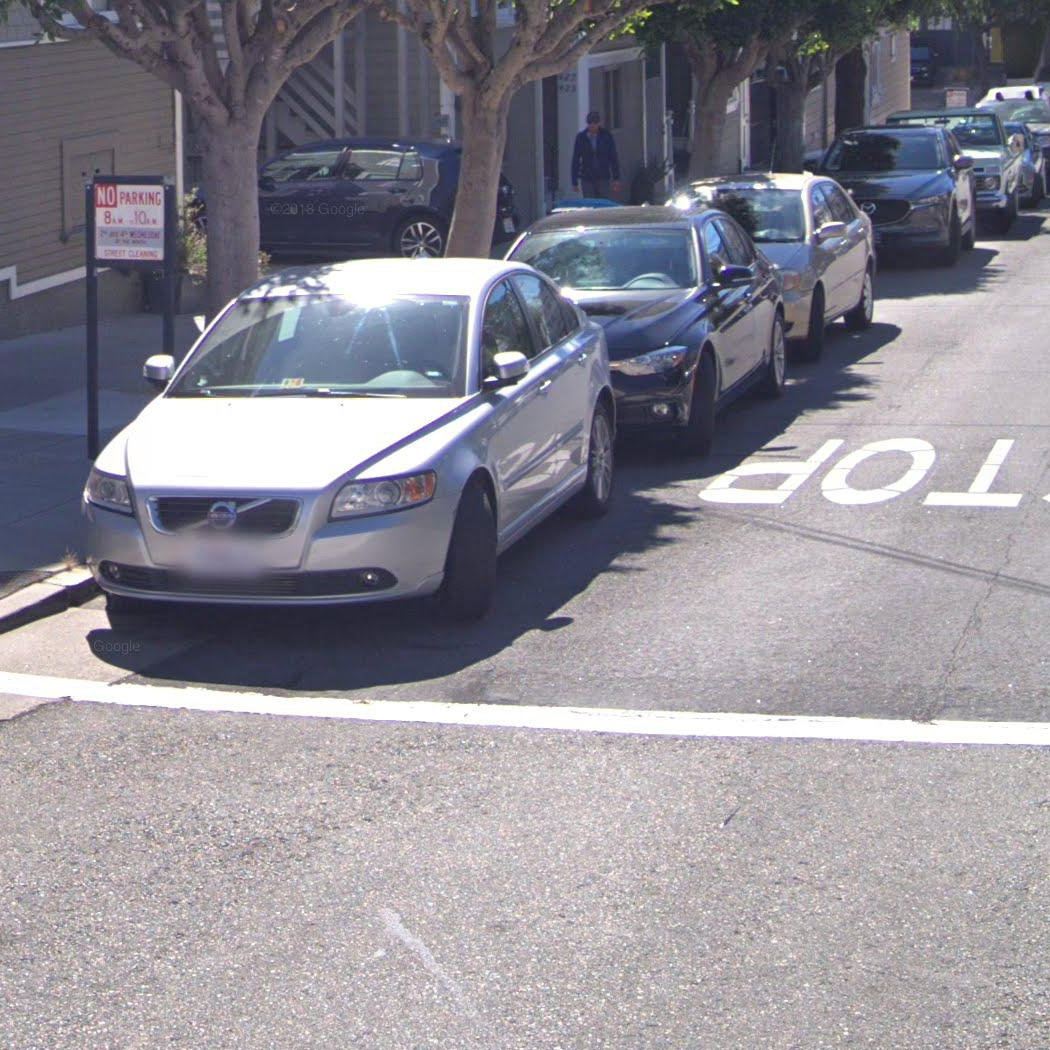No Parking: (91, 180, 166, 262)
